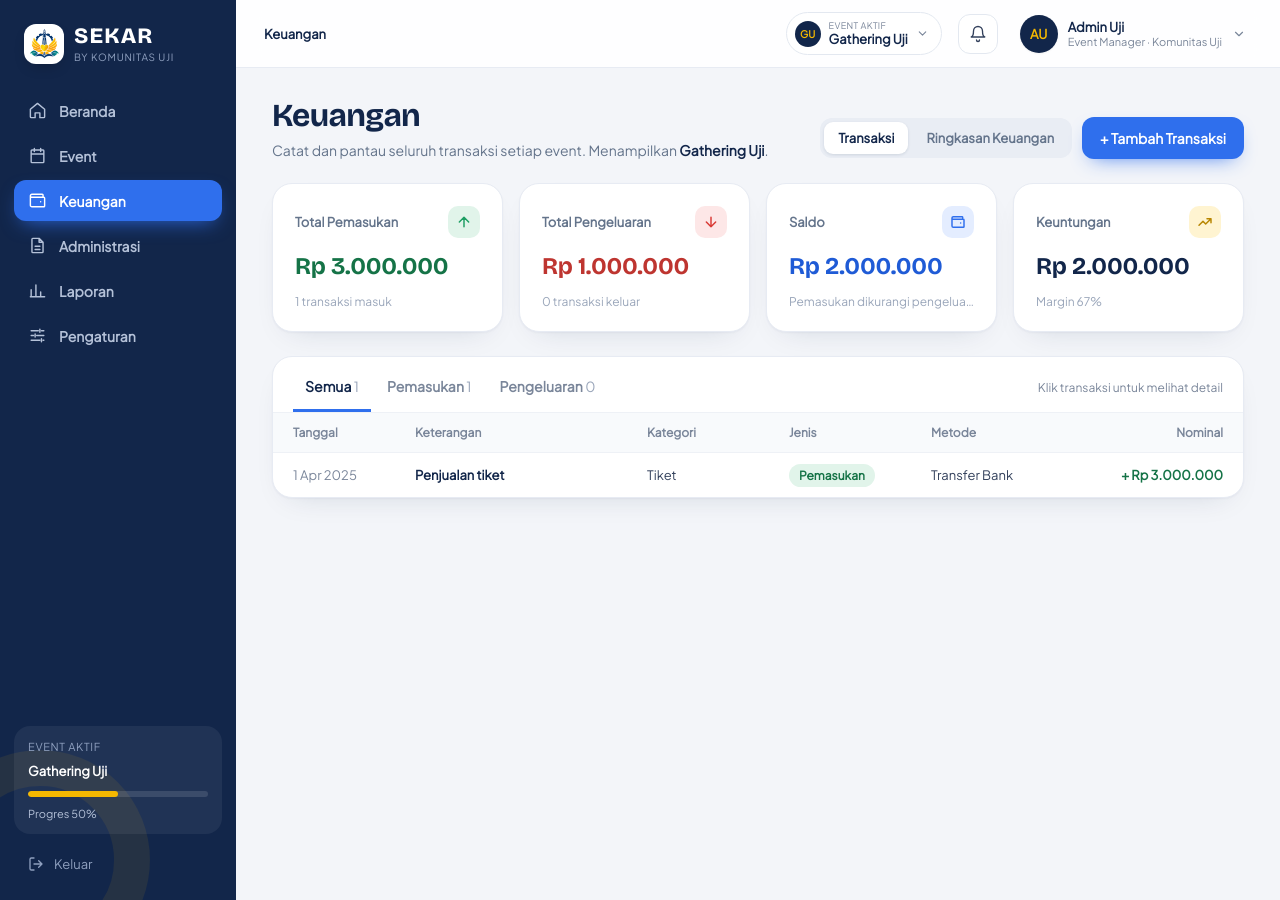
Scenario: transaksi › mengirim transaksi ke server lalu memuat ulang daftar
Expected: the text "Penjualan tiket" is shown, top-left (415, 467), bottom-right (504, 483)
Step 1. Click the button "+ Tambah Transaksi" → point(1163, 138), box top-left (1082, 117), bottom-right (1244, 159)
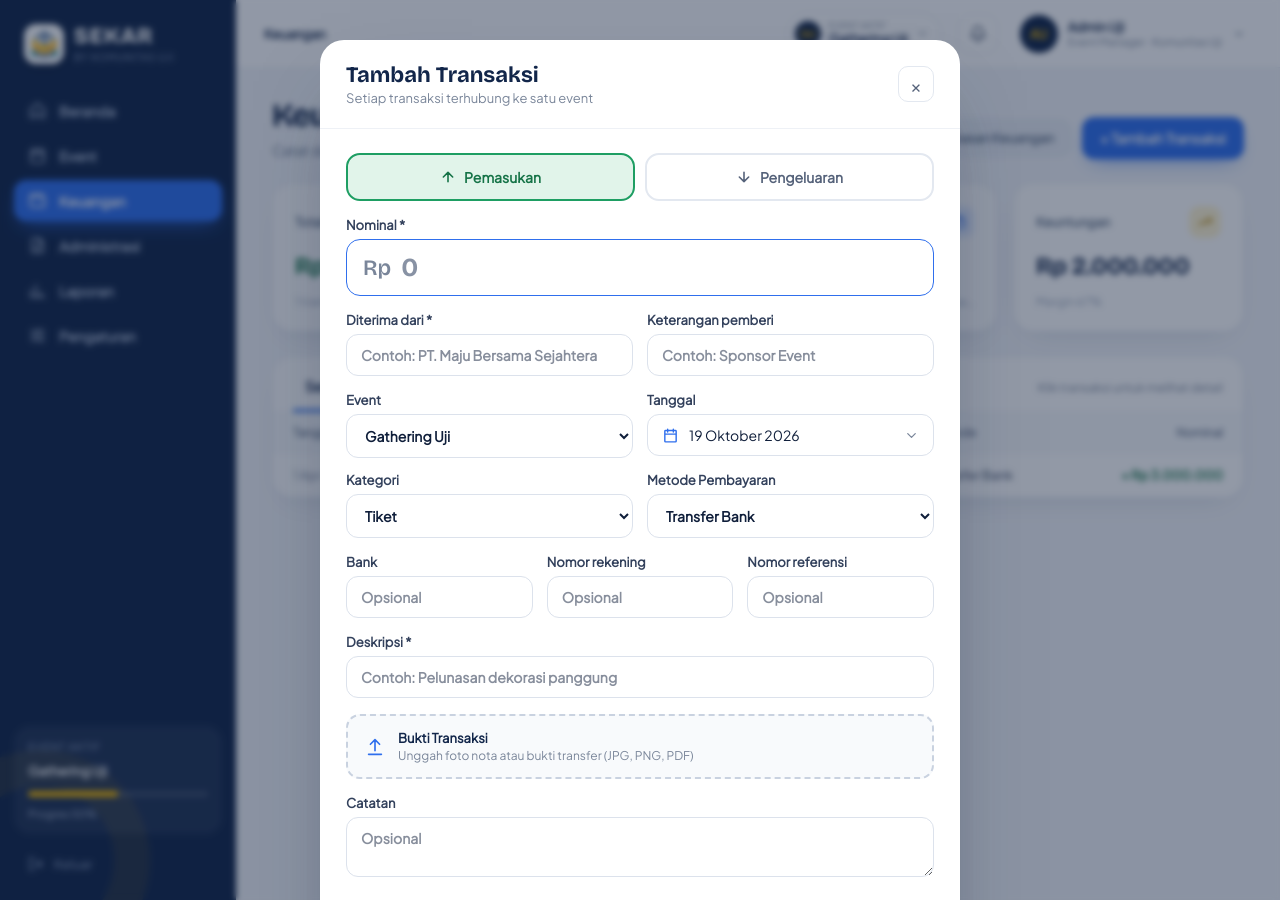
Step 2. Click the button "Pengeluaran" → point(790, 177), box top-left (645, 153), bottom-right (934, 201)
(page scrolled)
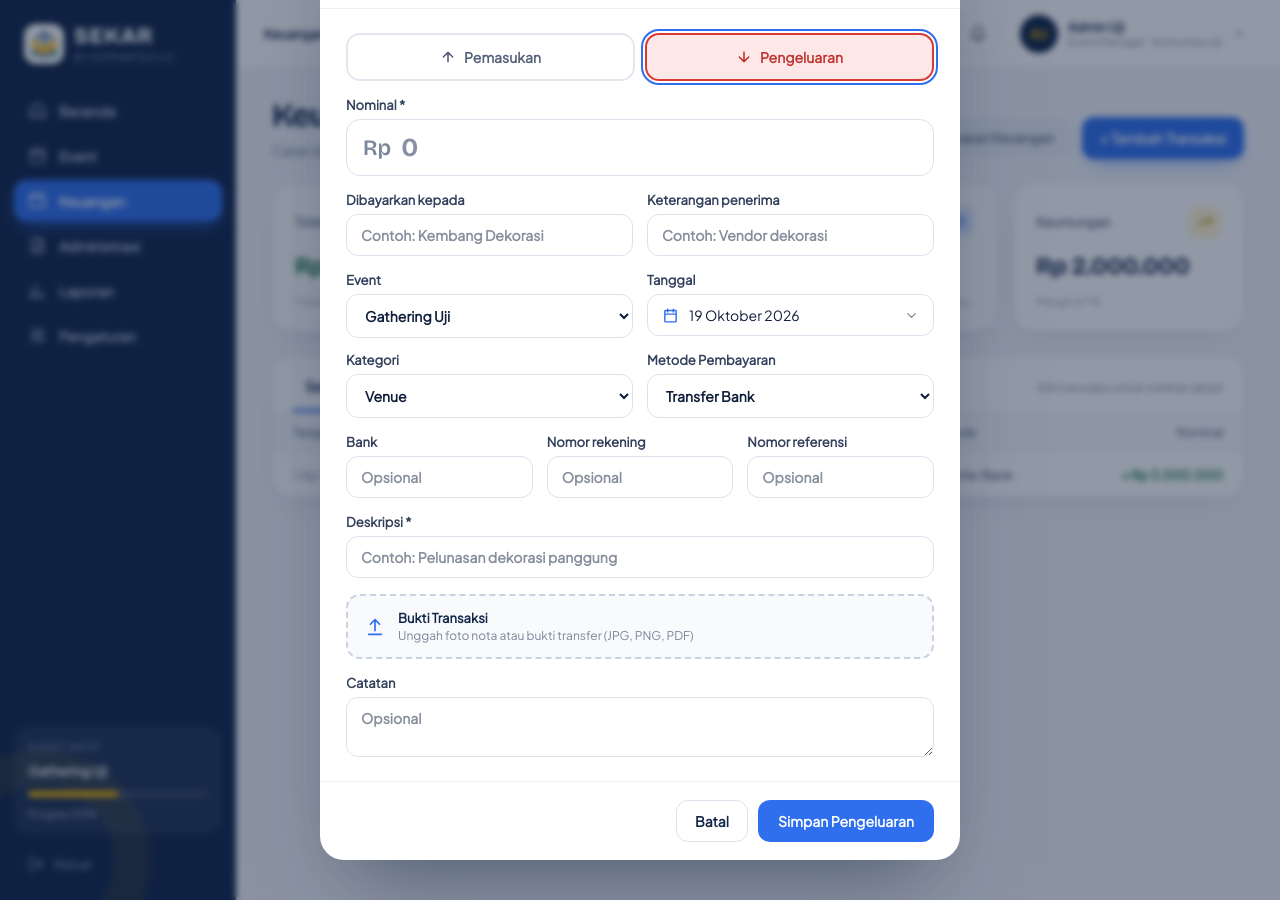
Step 3. Click the button "Simpan Pengeluaran" → point(846, 821), box top-left (758, 800), bottom-right (934, 842)
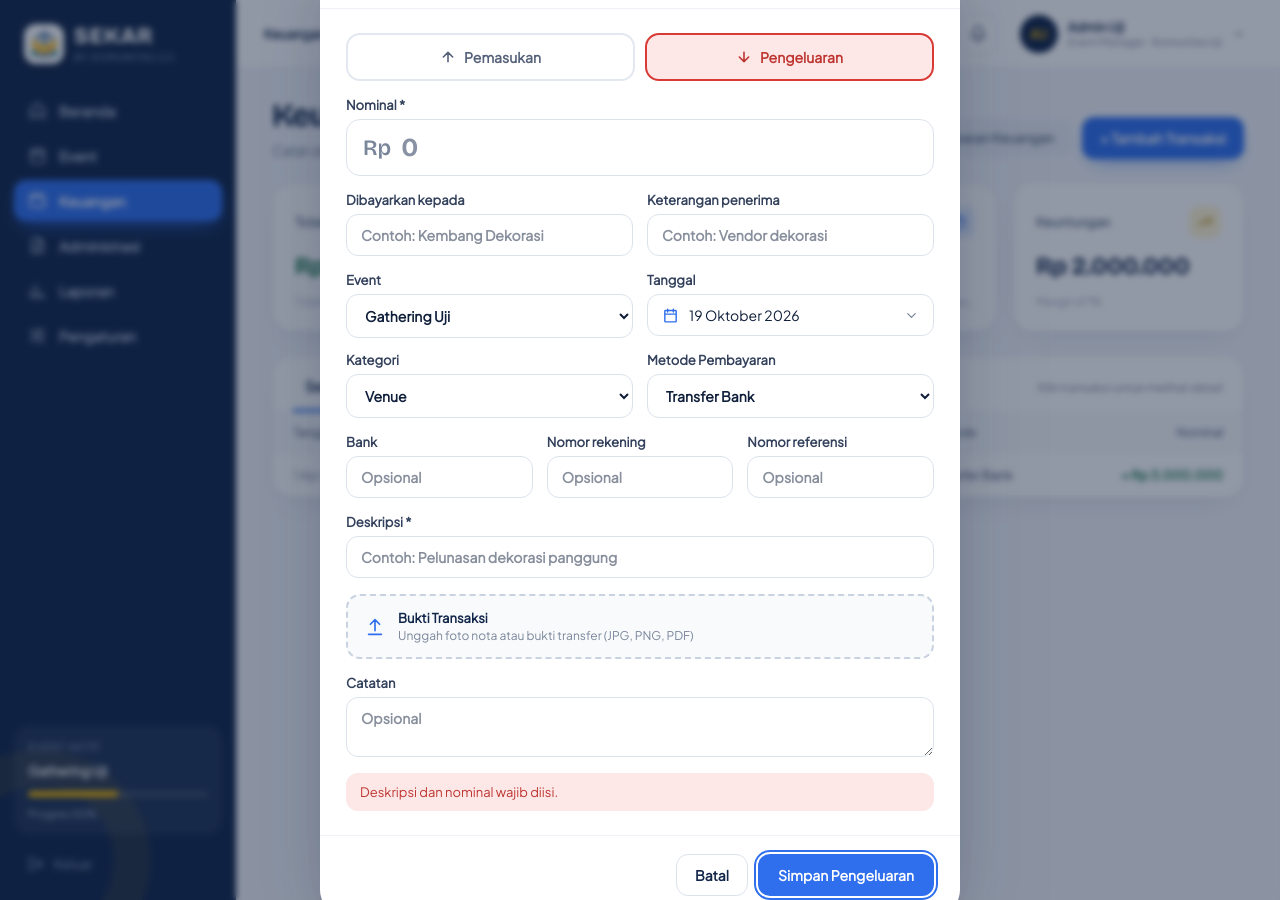
Expected: the message reads "Deskripsi dan nominal wajib diisi.", top-left (360, 784), bottom-right (558, 800)
Step 4. Type "750000" into the field labelled "Nominal" → point(662, 148), box top-left (391, 120), bottom-right (933, 175)
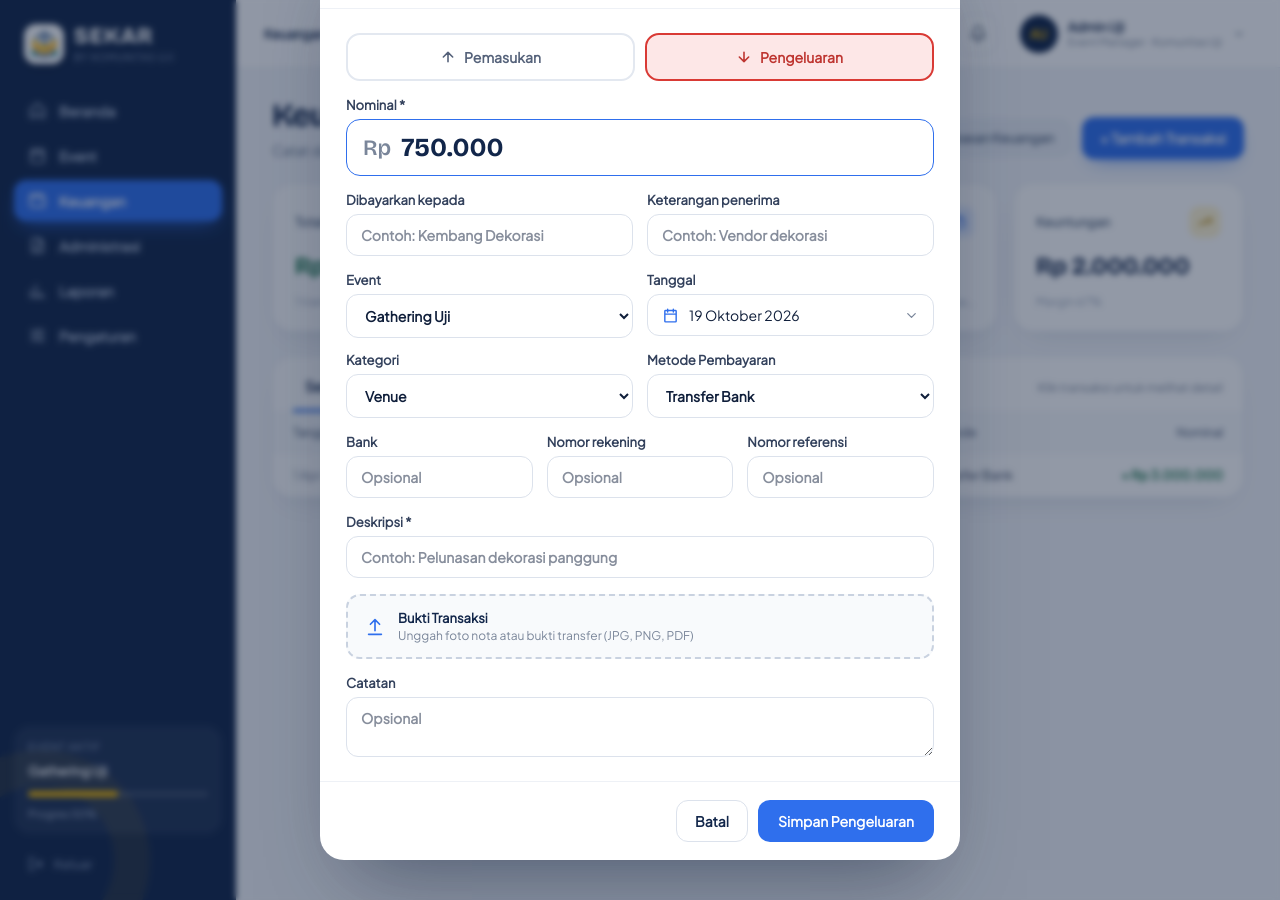
Expected: the field labelled "Nominal" holds "750.000", top-left (391, 120), bottom-right (933, 175)
Step 5. Type "DP dekorasi" into the field with placeholder "Contoh: Pelunasan dekorasi panggung" → point(640, 557), box top-left (346, 536), bottom-right (934, 578)
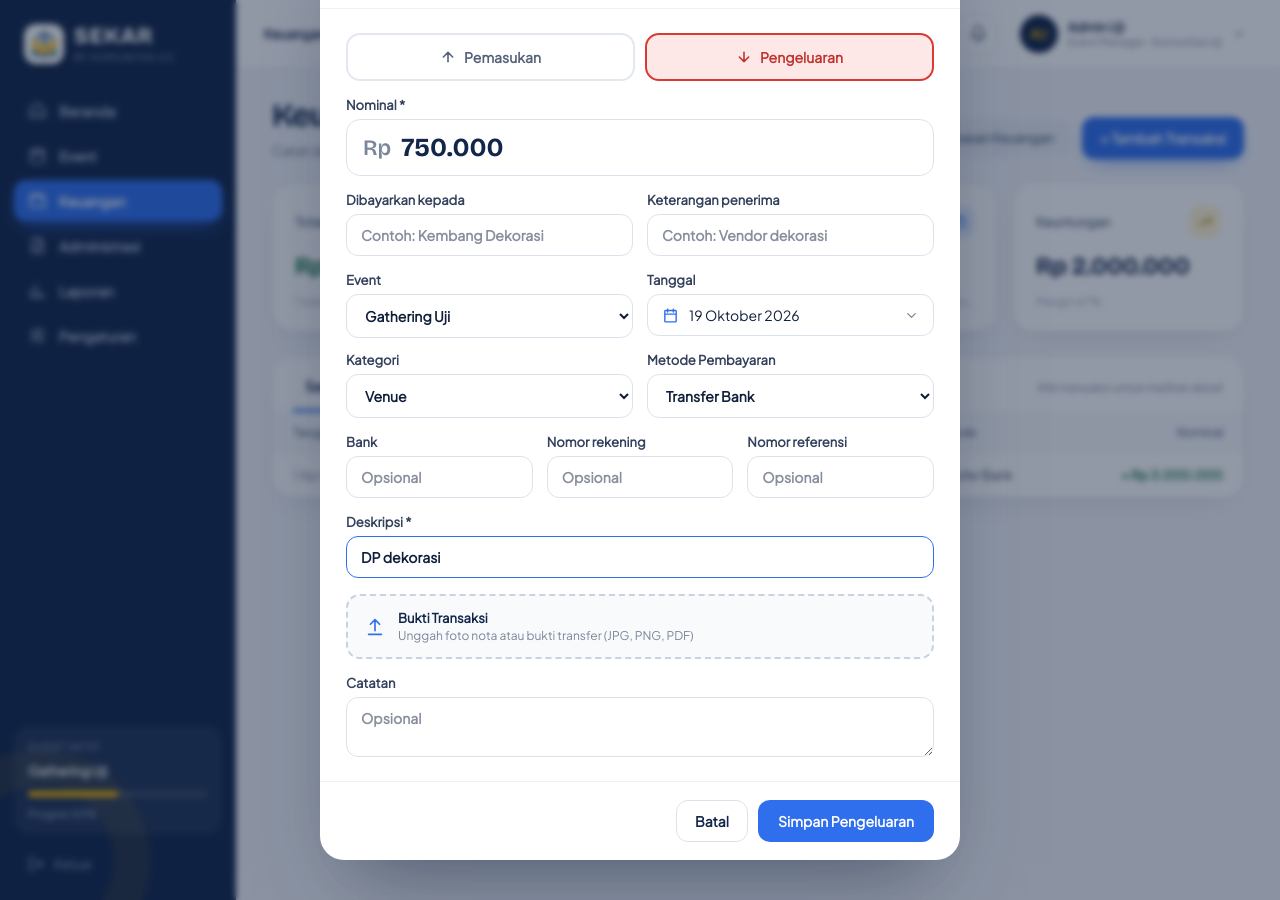
Step 6. Click the button "Simpan Pengeluaran" → point(846, 821), box top-left (758, 800), bottom-right (934, 842)
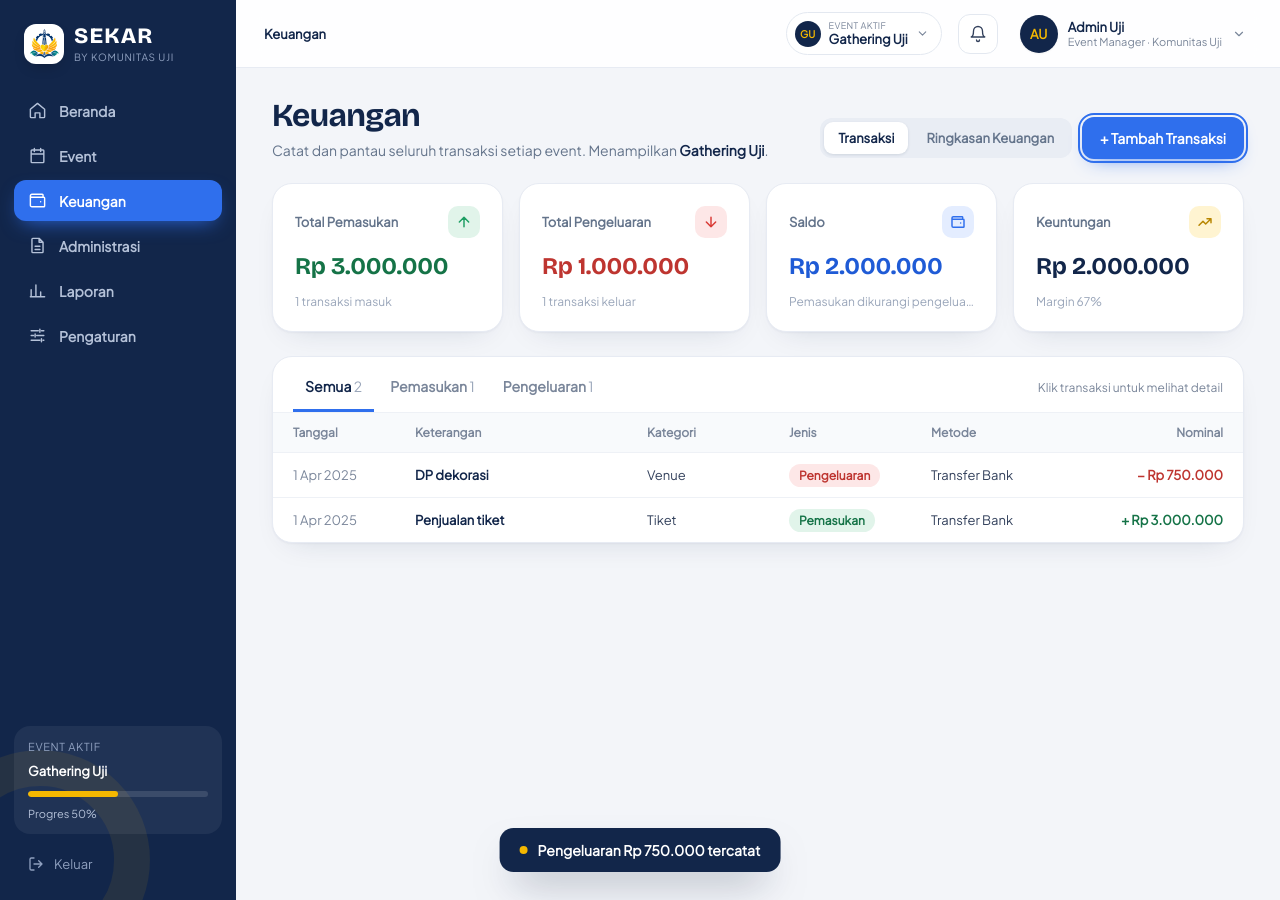
Expected: the text "DP dekorasi" is shown, top-left (415, 467), bottom-right (489, 483)
